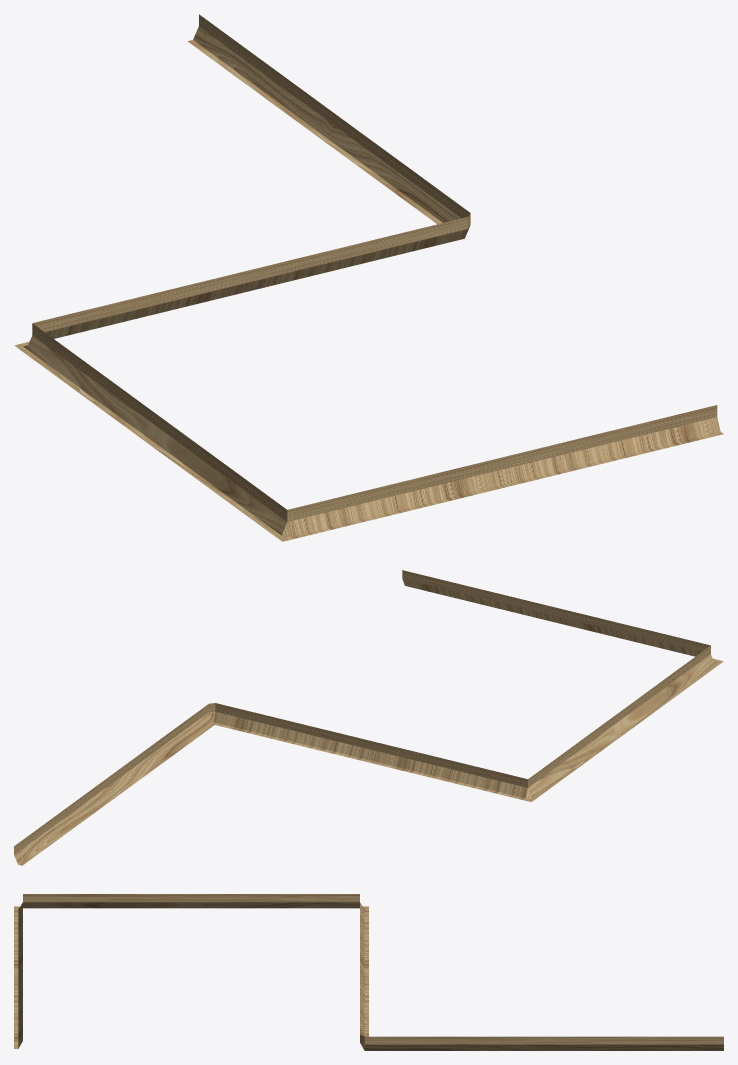
File: SkirtingBoardCeilingIndent008.FBX
The picture shows the model from 3 angles, top to bottom: view 1: azimuth 30°, elevation 25°; view 2: azimuth 150°, elevation 25°; view 3: azimuth 270°, elevation 25°; orthographic projection. The views are drawn at different scales.
Visible parts, largest first — view 1: SkirtingBoardCeilingIndent008; view 2: SkirtingBoardCeilingIndent008; view 3: SkirtingBoardCeilingIndent008.
Part boxes in pixels (x1=…): SkirtingBoardCeilingIndent008: x1=14, y1=14, x2=723, y2=541; SkirtingBoardCeilingIndent008: x1=14, y1=570, x2=723, y2=865; SkirtingBoardCeilingIndent008: x1=14, y1=894, x2=723, y2=1050.
Size of the model in its own units: 195 by 10 by 400.
